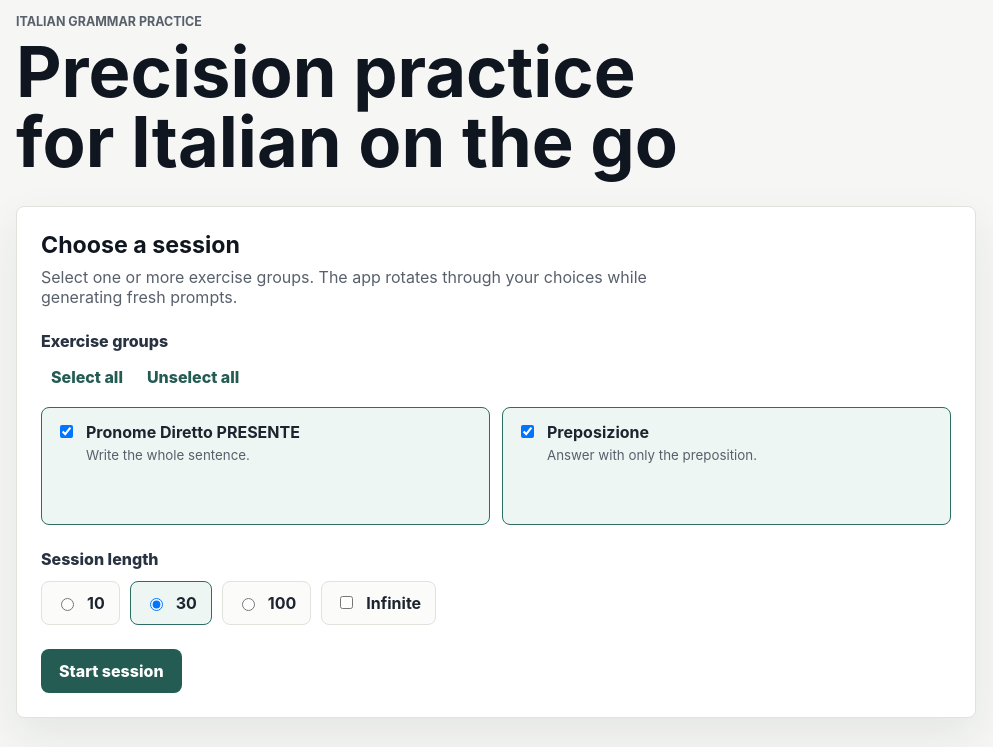
Test: App › can unselect all exercise groups
Expected: the checkbox labelled "Pronome Diretto PRESENTE Write the whole sentence." is checked, [60,425,73,438]
Step 1. Click the button "Unselect all" → (193, 377), box [137,359,249,395]
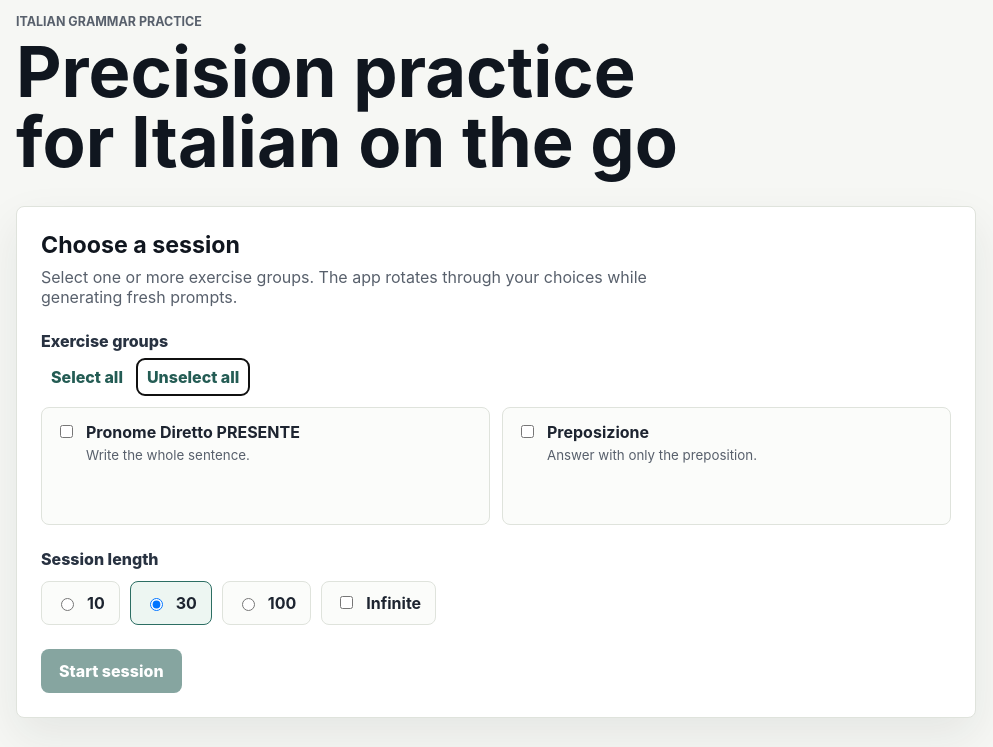
Result: the checkbox labelled "Pronome Diretto PRESENTE Write the whole sentence." is not checked at [60,425,73,438]
Result: the checkbox labelled "Preposizione Answer with only the preposition." is not checked at [521,425,534,438]
Result: the button "Start session" is disabled at [41,649,182,693]
